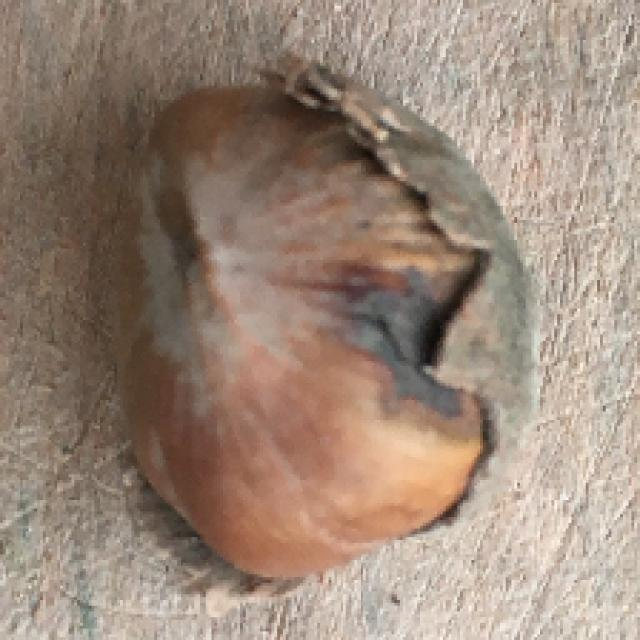damagedHazelnut: (97, 48, 541, 614)
